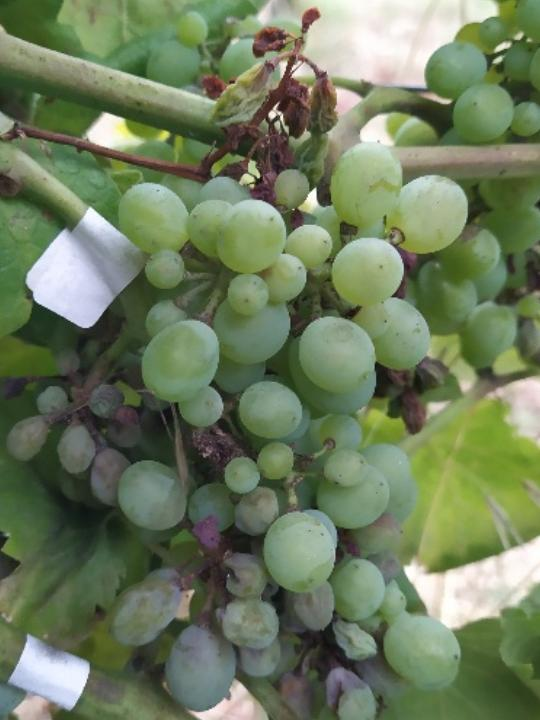grape: (2, 4, 479, 720), (394, 0, 540, 372)
